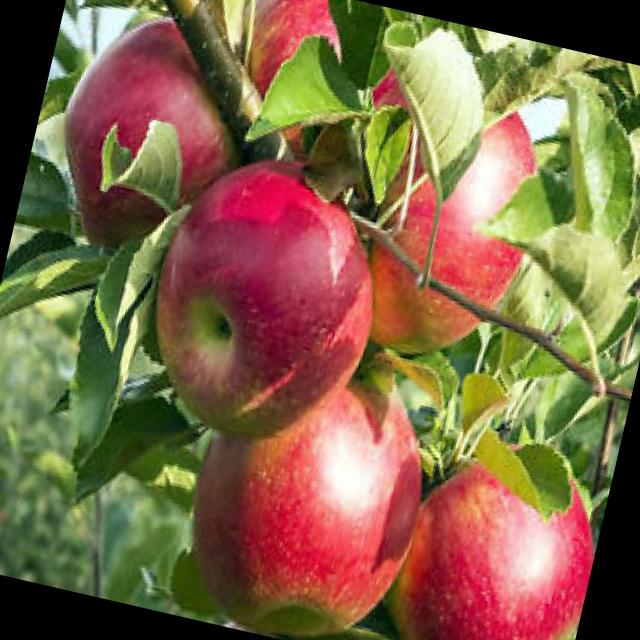apple: (124, 130, 406, 463), (157, 327, 448, 640), (285, 60, 569, 363), (34, 0, 283, 285), (365, 408, 611, 640)
